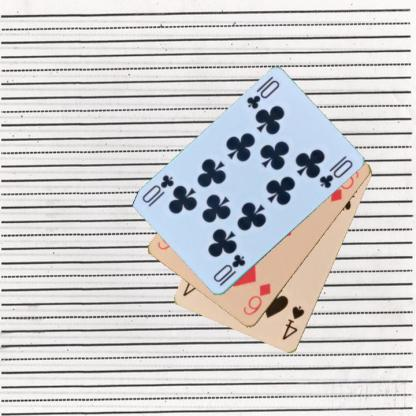10c: (244, 77, 281, 111), (210, 252, 248, 284)
4s: (280, 304, 306, 341)
6d: (240, 280, 272, 317)
